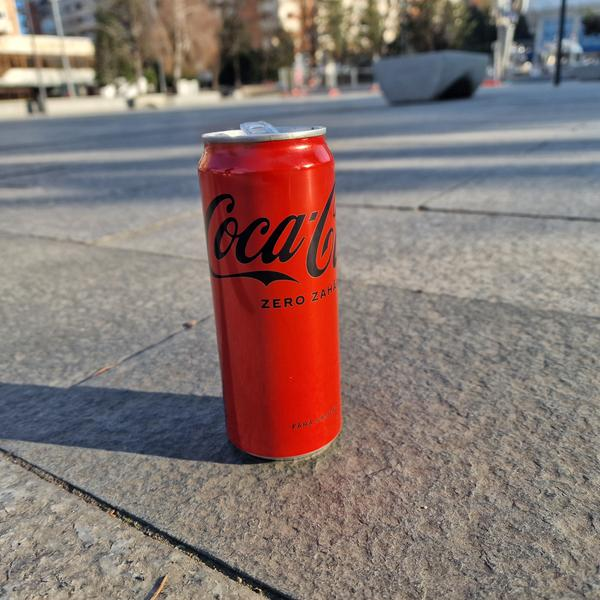can: (192, 116, 360, 470)
